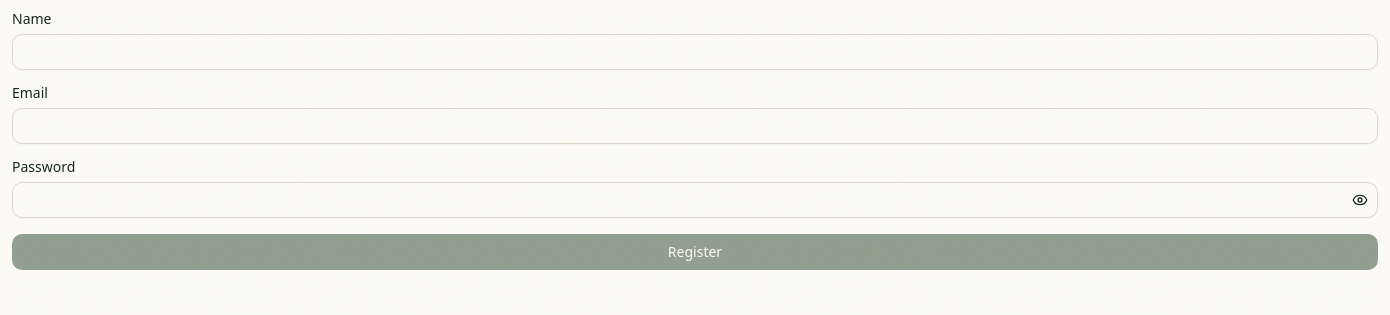
it: RegisterForm › validates password does not contain name
This screenshot has width=1390, height=315.
In the field labelled "Name": (695, 52) [12,34,1378,70], type "John"
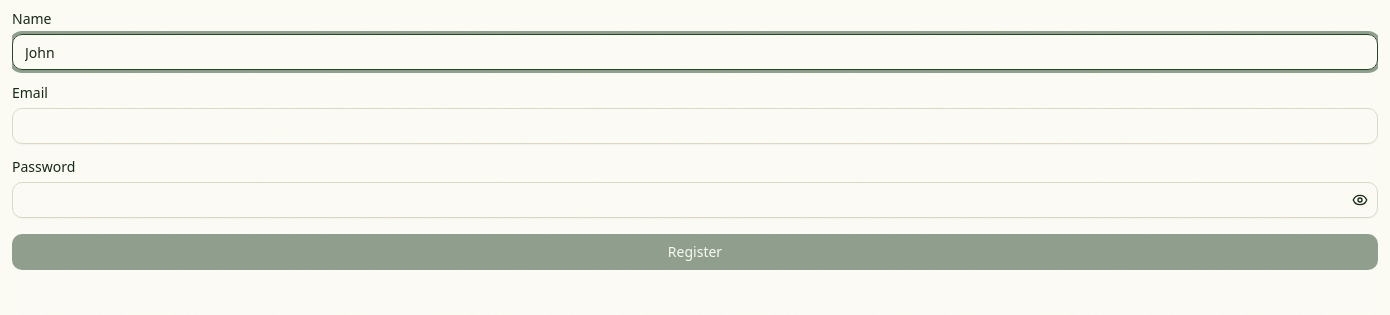
In the field labelled "Email": (695, 126) [12,108,1378,144], type "test@example.com"
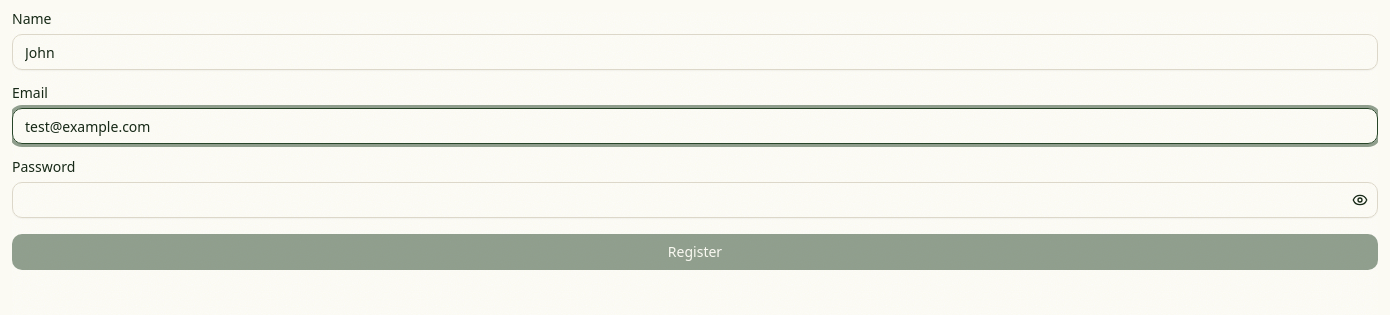
In the password field labelled "Password": (695, 200) [12,182,1378,218], type "Password123!John"
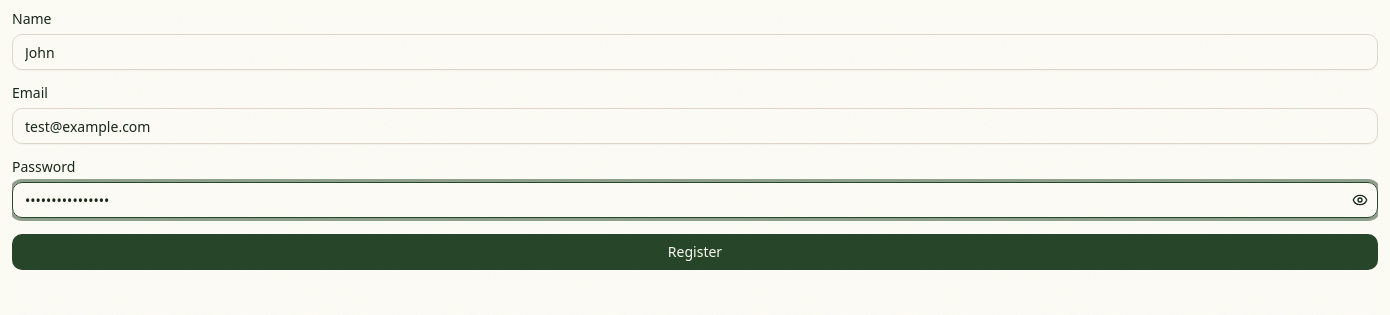
Submit the form with test id "register-form"
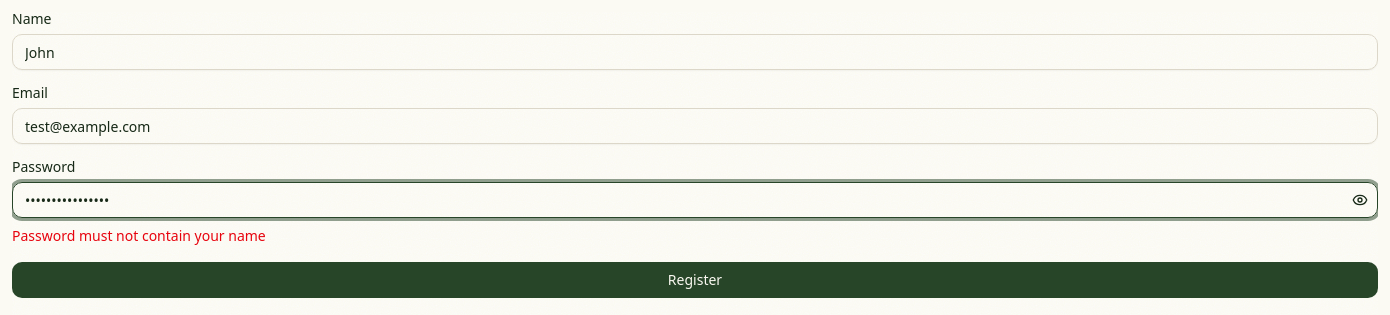
expect the text "Password must not contain your name" is shown: met, box [12,226,266,245]
